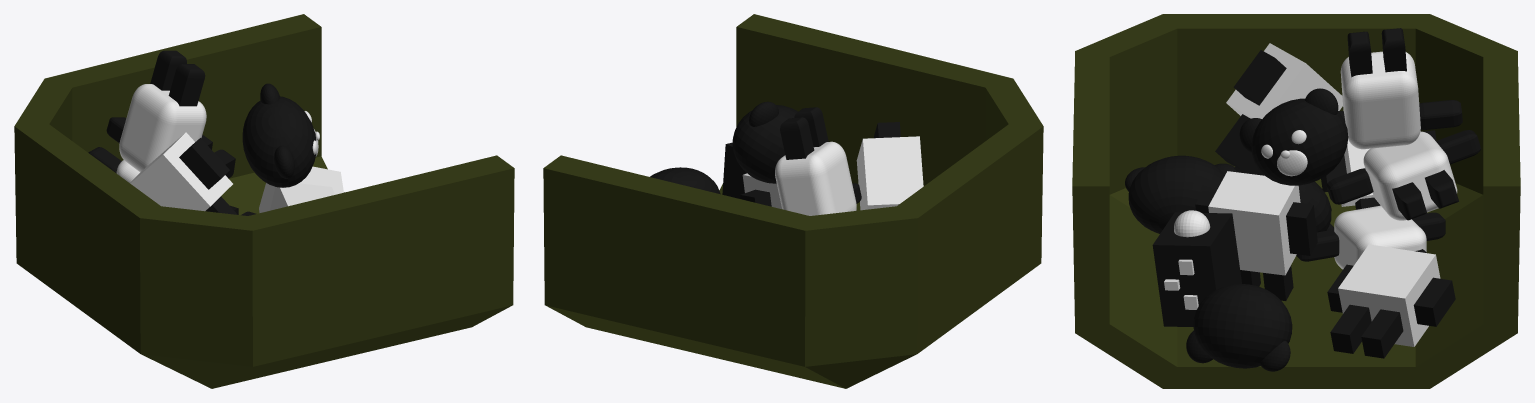
File: NewToy .fbx
3 renders of one model, left to right at view 1: azimuth 30°, elevation 25°; view 2: azimuth 150°, elevation 25°; view 3: azimuth 270°, elevation 25°, orthographic. The views are drawn at different scales.
Visible parts, largest first — view 1: Cube.004, Cube.010, Sphere.006, Cube.011, Cube.007, Cube.009, Cube.015; view 2: Cube.004, Cube.010, Cube.011, Sphere.006, Sphere.008, Cube.009, Sphere.003; view 3: Cube.004, Cube.015, Cube.010, Cube.009, Cube.007, Sphere.003, Sphere.006, Sphere.008, Cube.011, Sphere.005, Cube.005, Cube.008 (+1 smaller).
Part boxes in pixels (left/top/right/bottom): Cube.004: left=14, top=14, right=514, bottom=388; Cube.010: left=106, top=50, right=206, bottom=172; Sphere.006: left=242, top=83, right=319, bottom=187; Cube.011: left=130, top=132, right=237, bottom=214; Cube.007: left=88, top=135, right=235, bottom=182; Cube.009: left=270, top=183, right=335, bottom=210; Cube.015: left=259, top=166, right=344, bottom=212; Cube.004: left=543, top=14, right=1043, bottom=388; Cube.010: left=775, top=107, right=861, bottom=215; Cube.011: left=856, top=122, right=923, bottom=210; Sphere.006: left=732, top=101, right=797, bottom=183; Sphere.008: left=650, top=167, right=720, bottom=194; Cube.009: left=740, top=173, right=781, bottom=208; Sphere.003: left=722, top=142, right=746, bottom=198; Cube.004: left=1072, top=14, right=1520, bottom=388; Cube.015: left=1327, top=244, right=1455, bottom=358; Cube.010: left=1338, top=28, right=1462, bottom=149; Cube.009: left=1195, top=171, right=1317, bottom=300; Cube.007: left=1326, top=130, right=1480, bottom=220; Sphere.003: left=1152, top=210, right=1241, bottom=326; Sphere.006: left=1239, top=88, right=1348, bottom=185; Sphere.008: left=1186, top=283, right=1292, bottom=371; Cube.011: left=1215, top=43, right=1342, bottom=175; Sphere.005: left=1125, top=155, right=1237, bottom=233; Cube.005: left=1296, top=205, right=1445, bottom=269; Cube.008: left=1321, top=130, right=1436, bottom=209.
Size of the model in its own units: 721 by 458 by 720.
